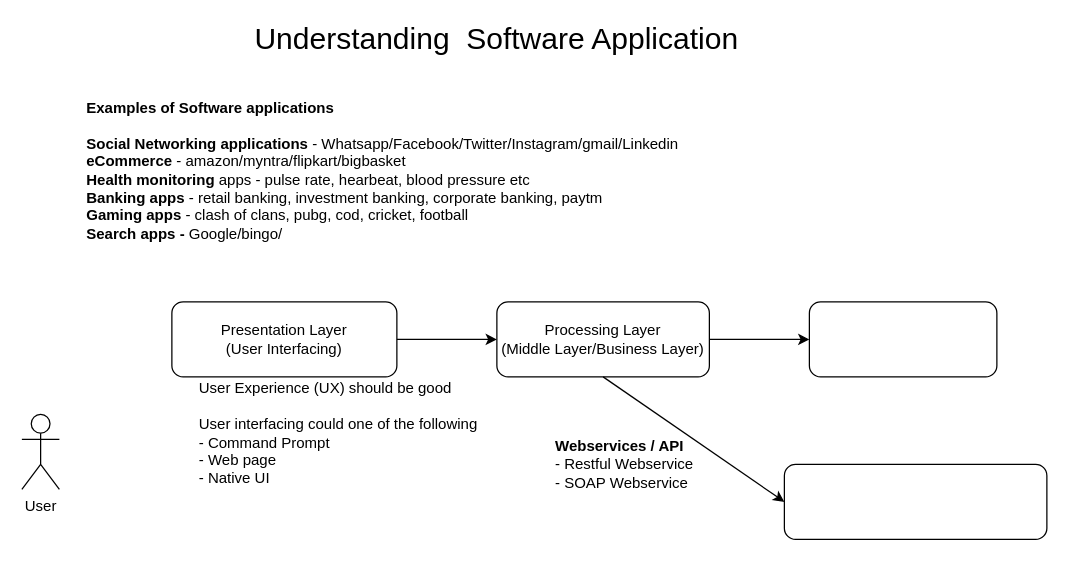
Some shapes in this 1069 by 561 pixel diagram are drawn without their labels. The centre of each missing label's shape, as x and y in pixels:
Persistence Layer (DB Layer/ Storage layer): (x=902, y=339)
Stock Data Service (External Application): (x=915, y=501)
